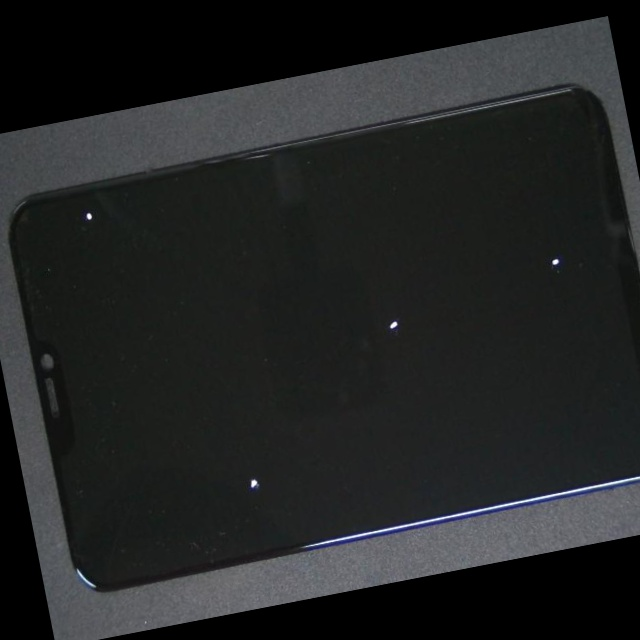stain: (180, 141, 601, 462), (110, 227, 378, 624), (279, 135, 640, 409), (25, 122, 142, 256)
